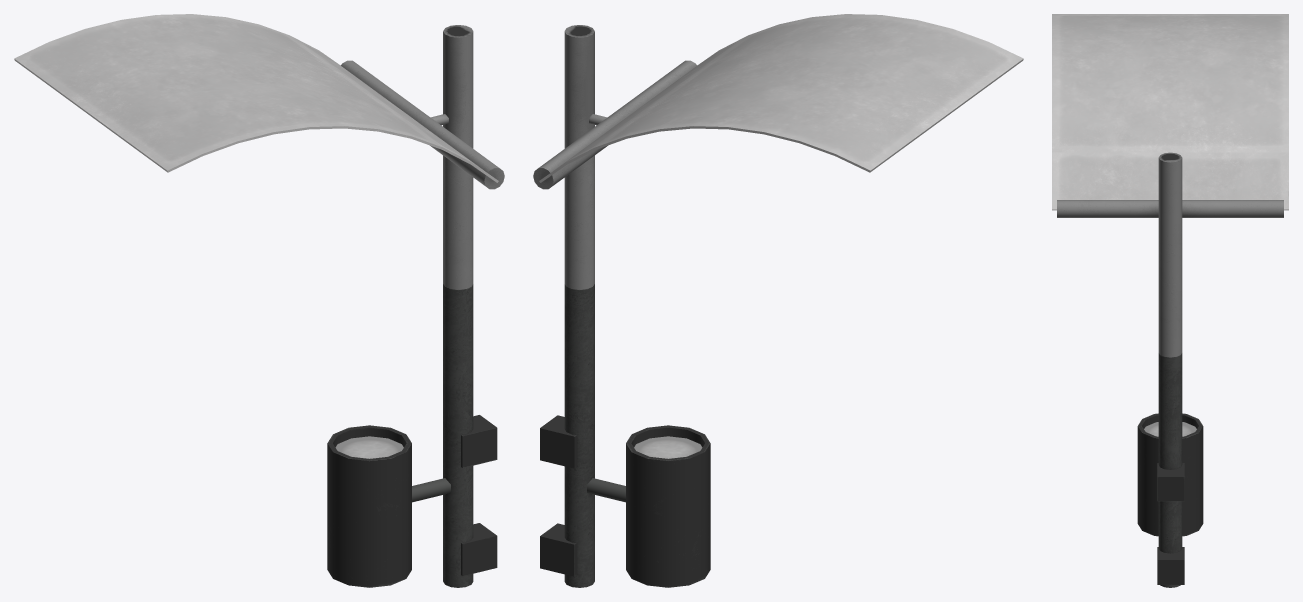
Rendered from SM_Light_Mall_Wall_01.fbx.
3 views of the same model, side by side, from view 1: azimuth 30°, elevation 25°; view 2: azimuth 150°, elevation 25°; view 3: azimuth 270°, elevation 25° (orthographic). The views are drawn at different scales.
Parts seen in each view (by area): view 1: SM_Light_Mall_Wall_01_LOD0; view 2: SM_Light_Mall_Wall_01_LOD0; view 3: SM_Light_Mall_Wall_01_LOD0.
Boxes of the visible parts, x1,y1,x2,y2 form: SM_Light_Mall_Wall_01_LOD0: (14, 14, 504, 587); SM_Light_Mall_Wall_01_LOD0: (533, 14, 1023, 587); SM_Light_Mall_Wall_01_LOD0: (1052, 14, 1288, 587).
Size of the model in its own units: 90.85 by 60.56 by 124.
